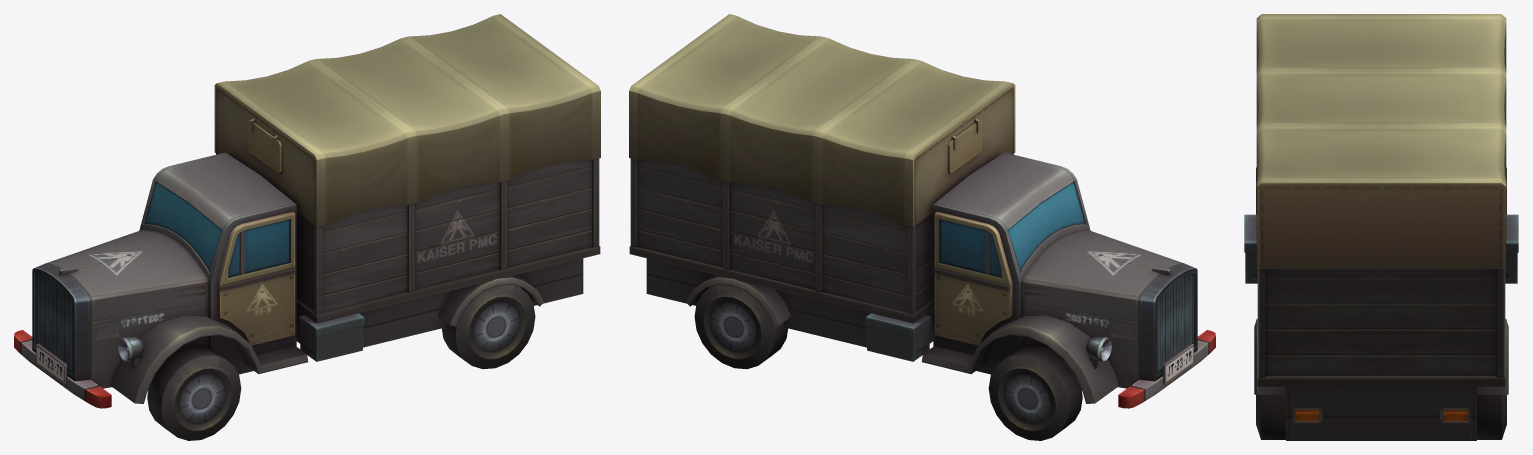
Rendered from truck1.fbx.
The picture shows the model from 3 angles, left to right: view 1: azimuth 30°, elevation 25°; view 2: azimuth 150°, elevation 25°; view 3: azimuth 270°, elevation 25°; orthographic projection. The views are drawn at different scales.
Parts seen in each view (by area): view 1: prop_desert_truck_A_prop_desert_truck_A_0; view 2: prop_desert_truck_A_prop_desert_truck_A_0; view 3: prop_desert_truck_A_prop_desert_truck_A_0.
Boxes of the visible parts, <box> form: prop_desert_truck_A_prop_desert_truck_A_0: <box>14,14,600,440</box>; prop_desert_truck_A_prop_desert_truck_A_0: <box>629,14,1215,440</box>; prop_desert_truck_A_prop_desert_truck_A_0: <box>1244,14,1518,440</box>.
Size of the model in its own units: 3.45 by 1.7 by 1.35.
